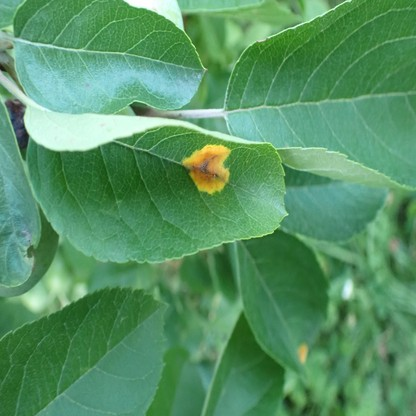rust: (182, 145, 228, 193), (297, 343, 307, 362)
